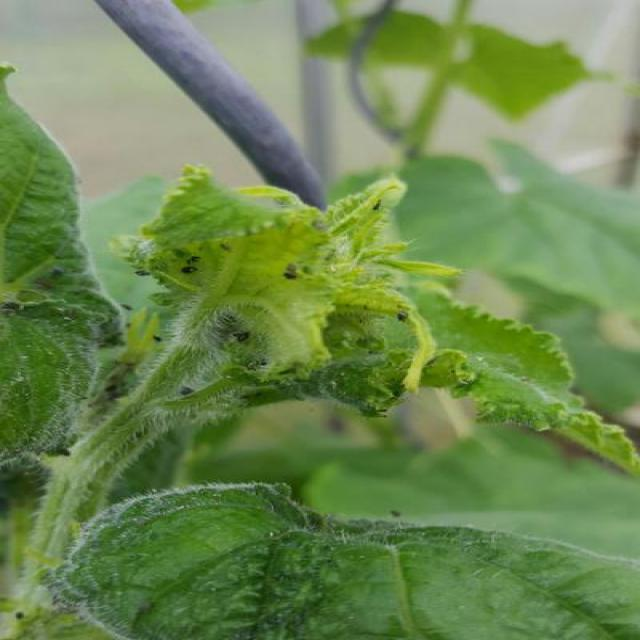Aphids: (214, 314, 302, 380), (165, 231, 240, 292), (266, 238, 344, 290), (384, 306, 432, 338)
